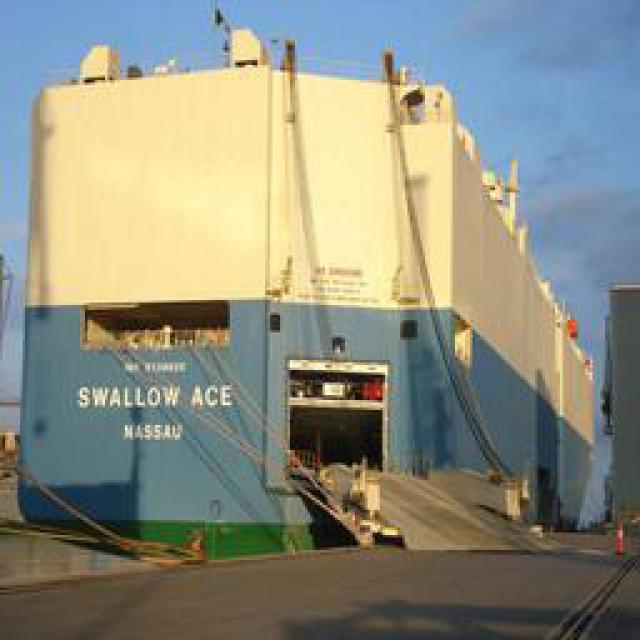Ship: (19, 1, 604, 567)
